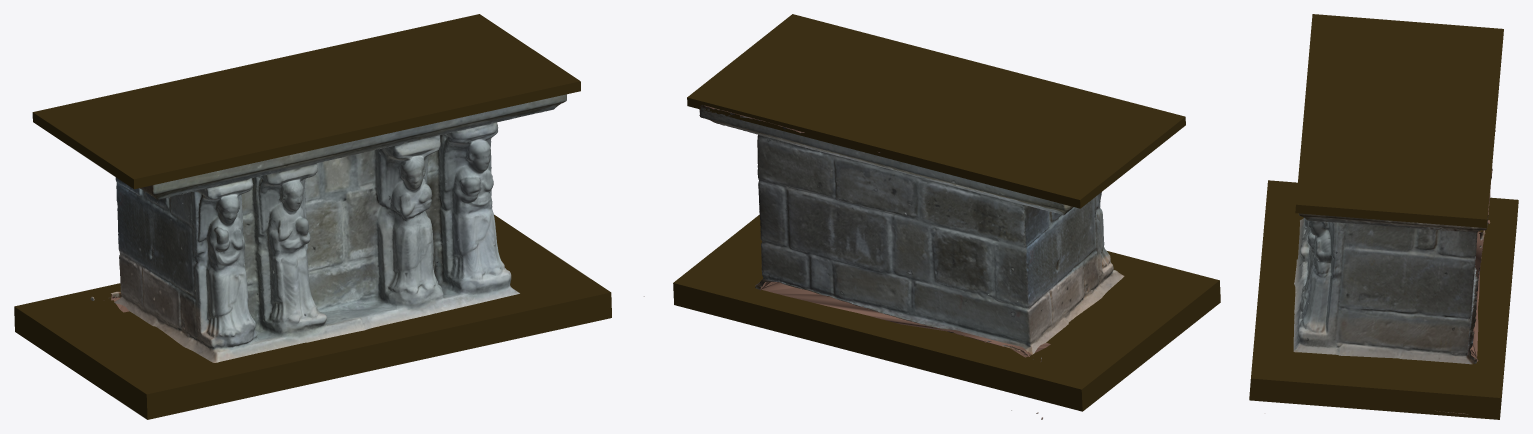
The model's file is catedral_de_roda_de_isabena.glb.
The picture shows the model from 3 angles, left to right: view 1: azimuth 30°, elevation 25°; view 2: azimuth 150°, elevation 25°; view 3: azimuth 270°, elevation 25°; orthographic projection. The views are drawn at different scales.
Visible parts, largest first — view 1: Object_3, Object_6, Object_5, Object_4; view 2: Object_3, Object_6, Object_5, Object_4; view 3: Object_6, Object_5, Object_3, Object_4.
Part boxes in pixels (x1=…): Object_3: x1=94, y1=94, x2=644, y2=362; Object_6: x1=32, y1=14, x2=580, y2=189; Object_5: x1=14, y1=214, x2=611, y2=419; Object_4: x1=90, y1=122, x2=519, y2=338; Object_3: x1=699, y1=105, x2=1124, y2=361; Object_6: x1=687, y1=14, x2=1185, y2=208; Object_5: x1=673, y1=215, x2=1220, y2=411; Object_4: x1=701, y1=107, x2=1109, y2=419; Object_6: x1=1295, y1=14, x2=1503, y2=227; Object_5: x1=1249, y1=180, x2=1518, y2=419; Object_3: x1=1293, y1=130, x2=1495, y2=414; Object_4: x1=1293, y1=217, x2=1485, y2=413.
Size of the model in its own units: 8.19 by 4.73 by 4.35.
3 materials, 1 textured.
